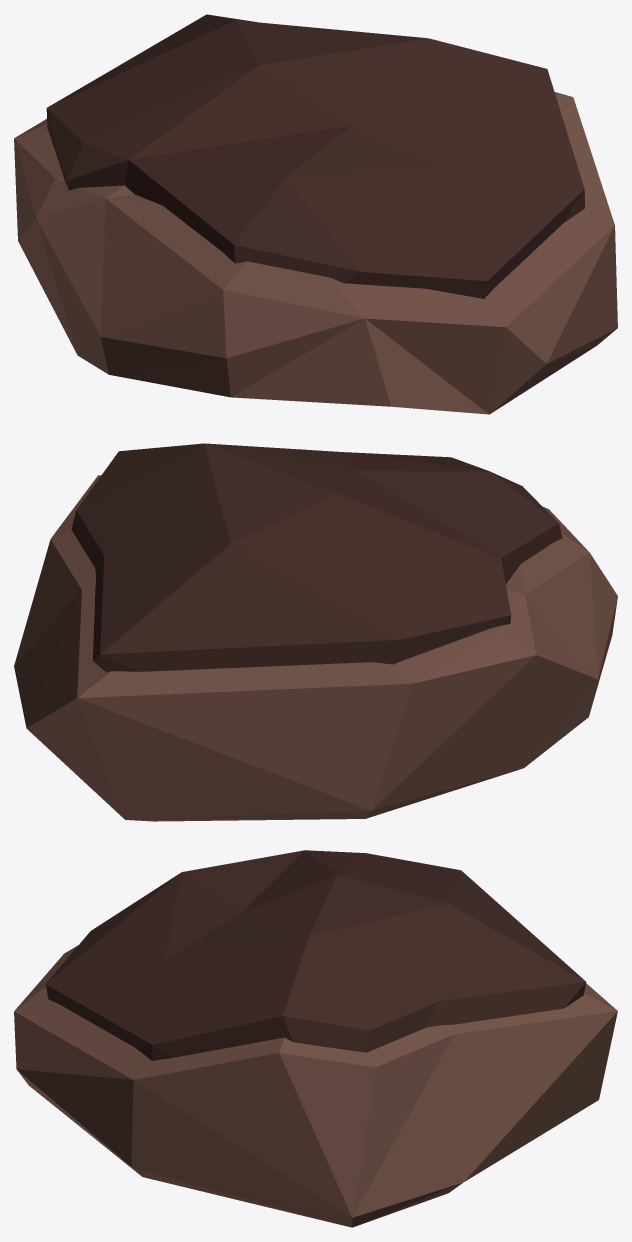
File: Brown_rock_004.fbx
3 views of the same model, one above another, from view 1: azimuth 30°, elevation 25°; view 2: azimuth 150°, elevation 25°; view 3: azimuth 270°, elevation 25° (orthographic). The views are drawn at different scales.
Visible parts, largest first — view 1: Brown_rock_004; view 2: Brown_rock_004; view 3: Brown_rock_004.
Boxes of the visible parts, <box> form: Brown_rock_004: <box>14,14,617,414</box>; Brown_rock_004: <box>14,443,617,821</box>; Brown_rock_004: <box>14,850,617,1227</box>.
Bounding box in the file's own units: 433 × 501 × 209.
